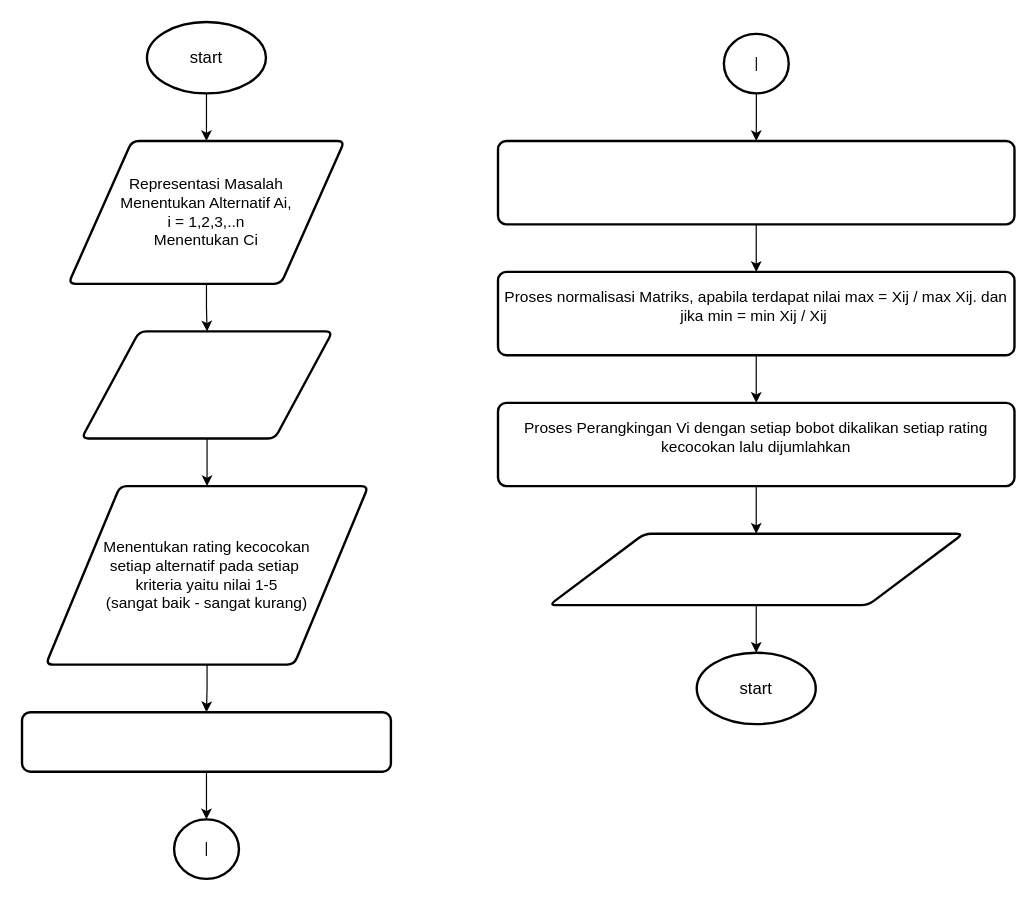
Some shapes in this 1035 by 900 pixel diagram are drawn without their labels. The centre of each missing label's shape, as x and y in pixels:
Hasil Perangkingan dengan Metode SAW: (755,569)
Memperbaiki Nilai bobot agar total ∑ wj = 1, dengan cara wj = wj / ∑ wj: (206,741)
Menentukan Nilai Bobot (W) setiap kriteria: (206,384)
Menentukan Nilai max dan min setiap rating kecocokan pada setiap kriteria: (755,182)
